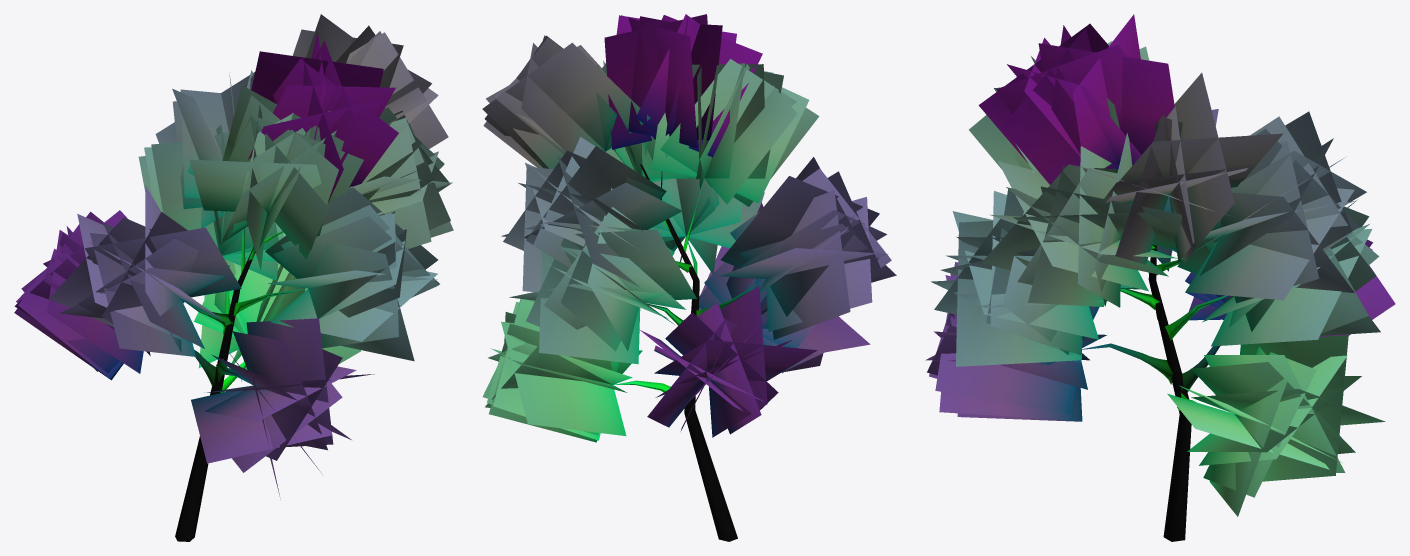
The model's file is URP_P6_Tree_3_LOD_3.fbx.
3 views of the same model, side by side, from view 1: azimuth 30°, elevation 25°; view 2: azimuth 150°, elevation 25°; view 3: azimuth 270°, elevation 25° (orthographic). The views are drawn at different scales.
Parts seen in each view (by area): view 1: Tree_3_LOD_3; view 2: Tree_3_LOD_3; view 3: Tree_3_LOD_3.
Boxes of the visible parts, box(x1,y1,x2,y2) form: Tree_3_LOD_3: box(14, 14, 453, 541); Tree_3_LOD_3: box(482, 14, 896, 541); Tree_3_LOD_3: box(925, 14, 1395, 541).
Size of the model in its own units: 552 by 682 by 520.
